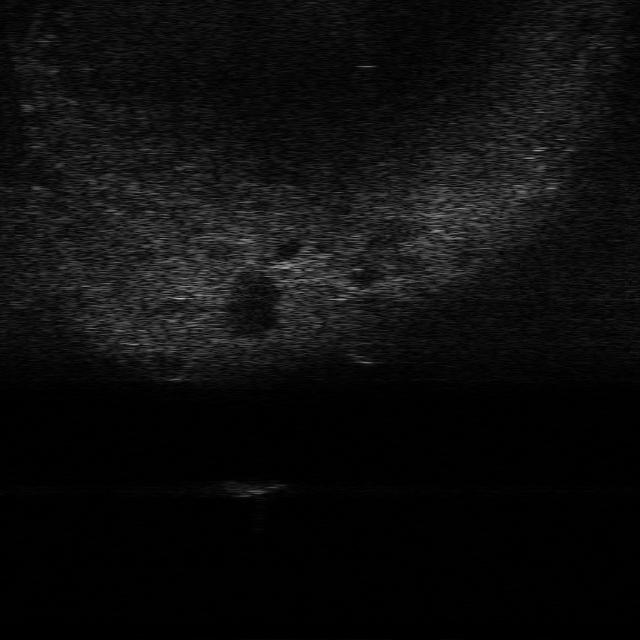ball: (345, 339, 391, 366)
cube: (222, 478, 286, 498)
